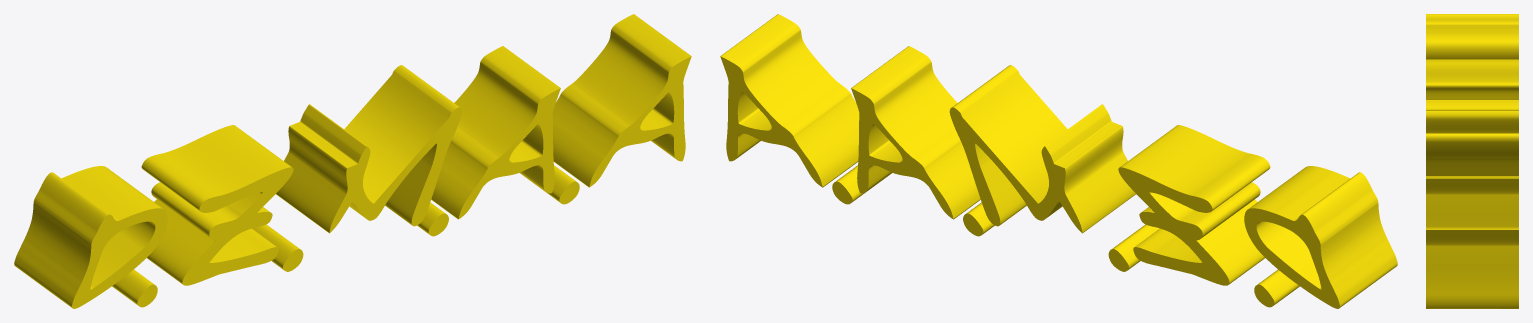
The picture shows the model from 3 angles, left to right: view 1: azimuth 30°, elevation 25°; view 2: azimuth 150°, elevation 25°; view 3: azimuth 270°, elevation 25°; orthographic projection. The views are drawn at different scales.
Parts seen in each view (by area): view 1: Text; view 2: Text; view 3: Text.
Boxes of the visible parts, bbox=[...] form: Text: bbox=[14, 14, 691, 308]; Text: bbox=[720, 14, 1397, 308]; Text: bbox=[1426, 14, 1518, 308].
Size of the model in its own units: 4.95 by 0.939 by 0.8.
